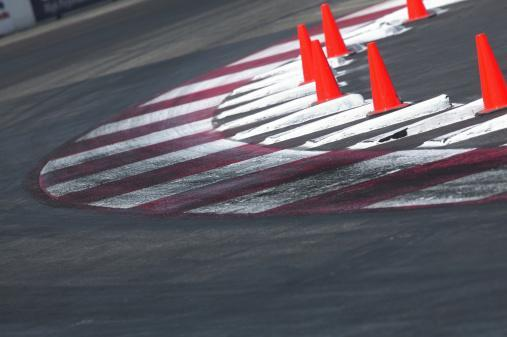Cone: (365, 40, 412, 116), (472, 33, 507, 117), (307, 37, 348, 106), (319, 3, 359, 62), (398, 1, 436, 27)
